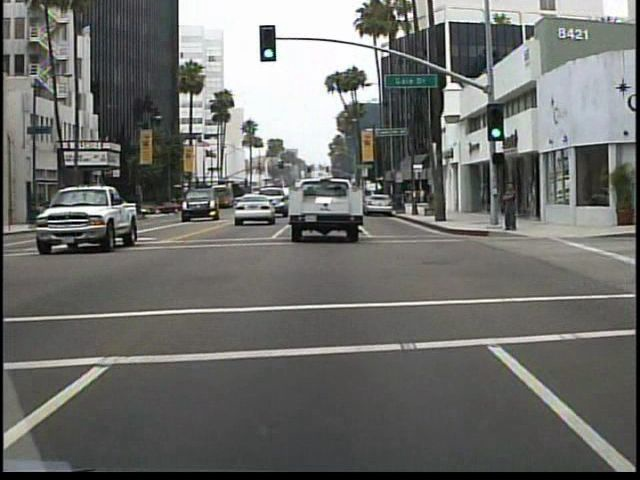person: (498, 176, 519, 236)
